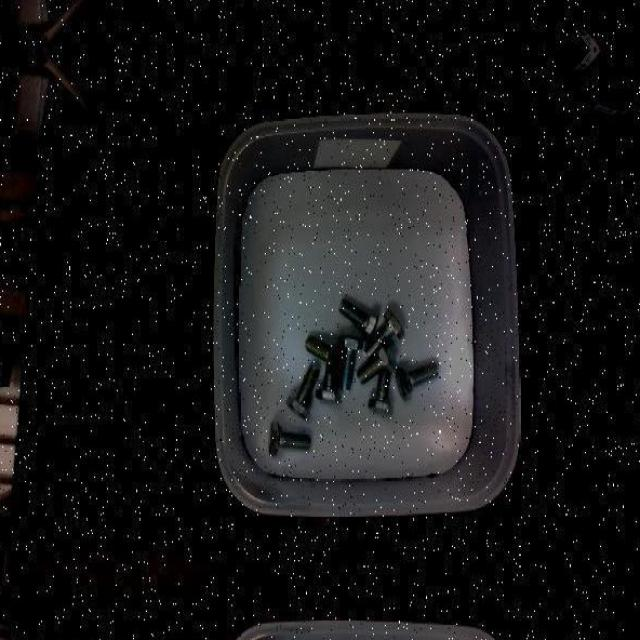screw: (285, 364, 319, 419), (338, 298, 378, 344), (394, 361, 438, 402), (305, 335, 346, 376), (357, 342, 397, 384), (268, 420, 310, 456)
